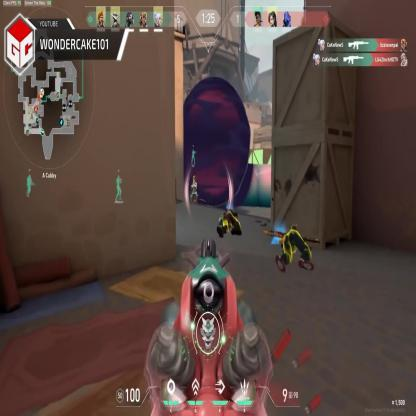enemy: (190, 176, 198, 206)
enemy_head: (192, 176, 196, 184)
